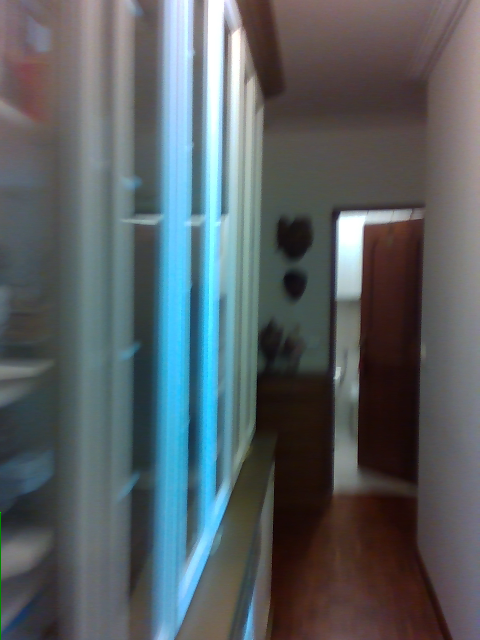semi: (326, 202, 431, 513)
